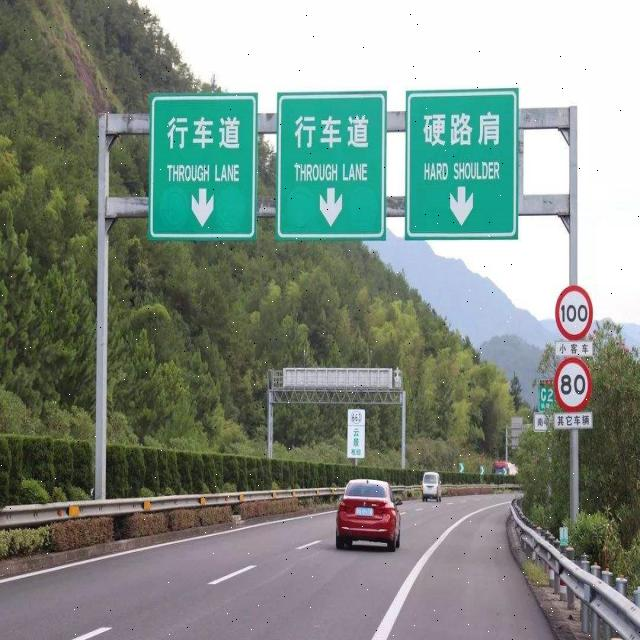speed limit 100: (554, 287, 593, 340)
speed limit 80: (554, 359, 592, 411)
